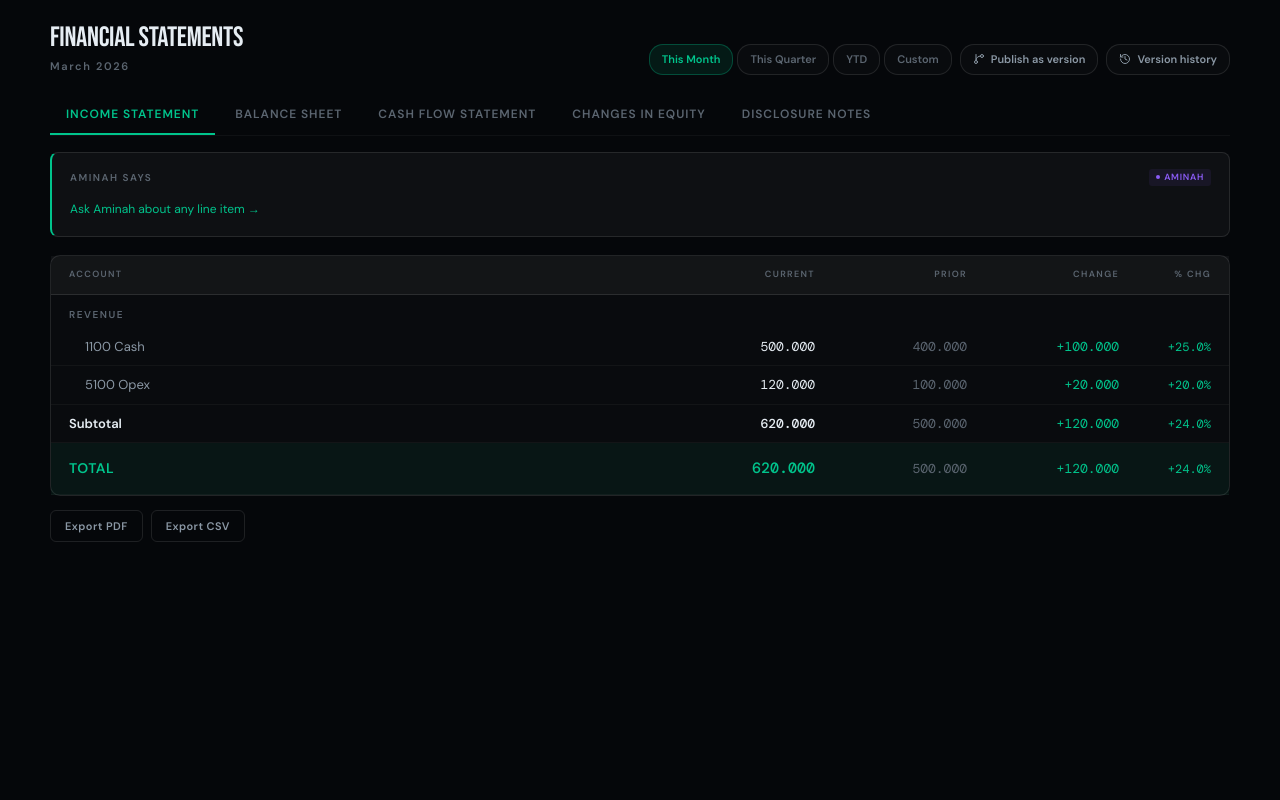
Test: SOCIE tab (HASEEB-213) › renders the "Changes in Equity" tab and clicks through to the matrix
The width and height of the screenshot is (1280, 800).
Click the button "CHANGES IN EQUITY" at (639, 114), box [556,92,722,134]
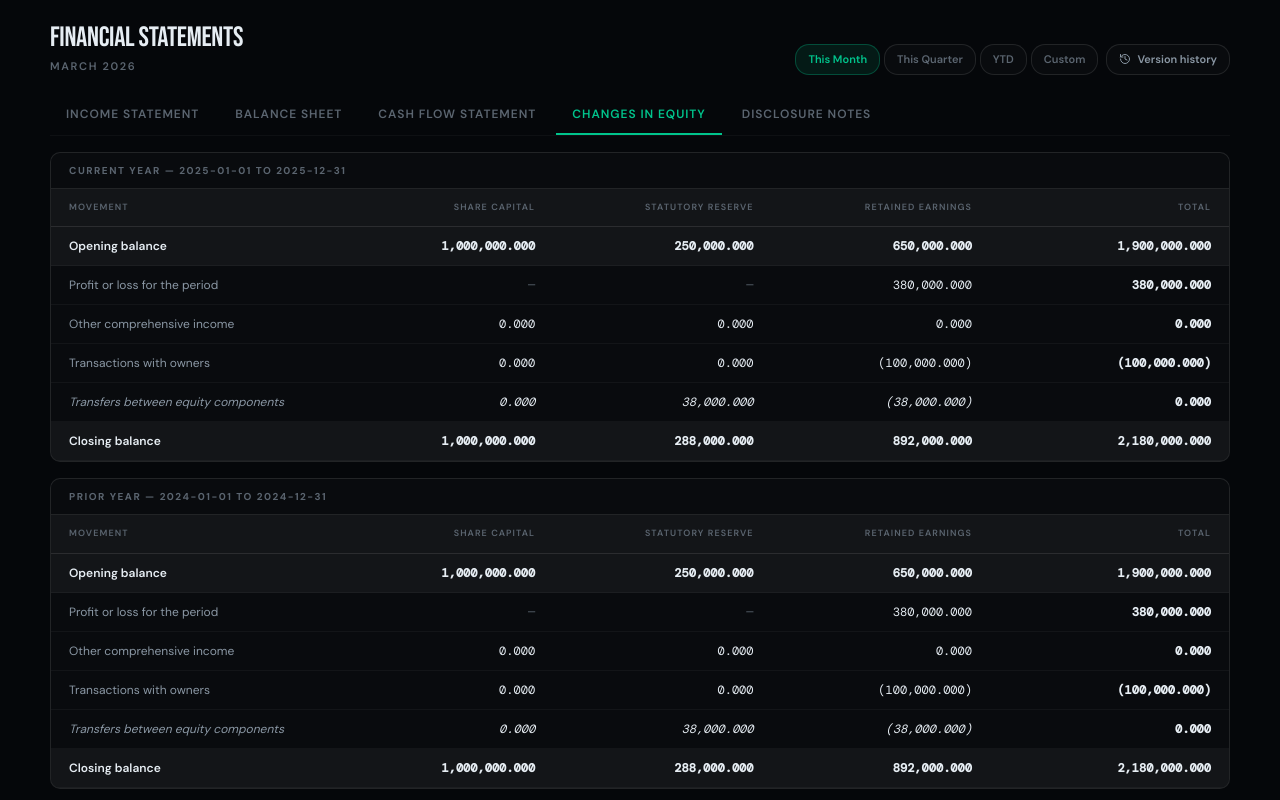
Expected: the element with test id "socie-matrix" that starts with "Current Year — 2025-01-01 to 2025-12-31" is shown, [50,152,1230,462]
Expected: the text "Opening balance" below "Current Year — 2025-01-01 to 2025-12-31" is shown, [69,238,167,254]
Expected: the text "Profit or loss for the period" below "Current Year — 2025-01-01 to 2025-12-31" is shown, [69,277,218,293]
